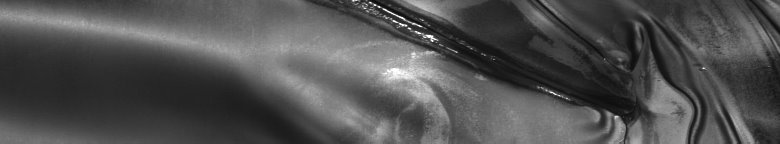ke: (317, 4, 776, 136)
